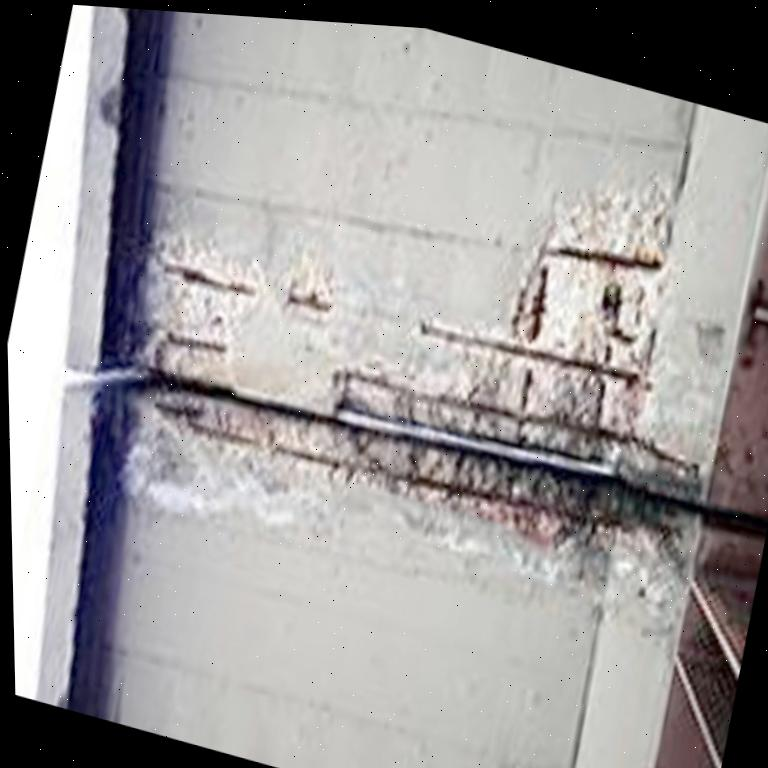spalling: (132, 390, 689, 623), (323, 176, 699, 493), (152, 240, 340, 394)
